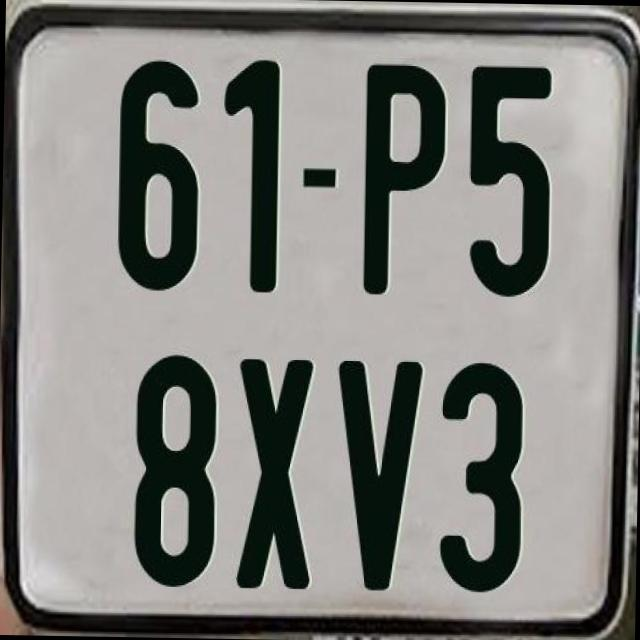1: (217, 54, 280, 297)
3: (434, 363, 520, 597)
5: (466, 62, 556, 300)
6: (116, 59, 206, 298)
8: (131, 351, 221, 594)
P: (360, 58, 448, 294)
V: (332, 359, 419, 595)
X: (236, 355, 314, 595)
